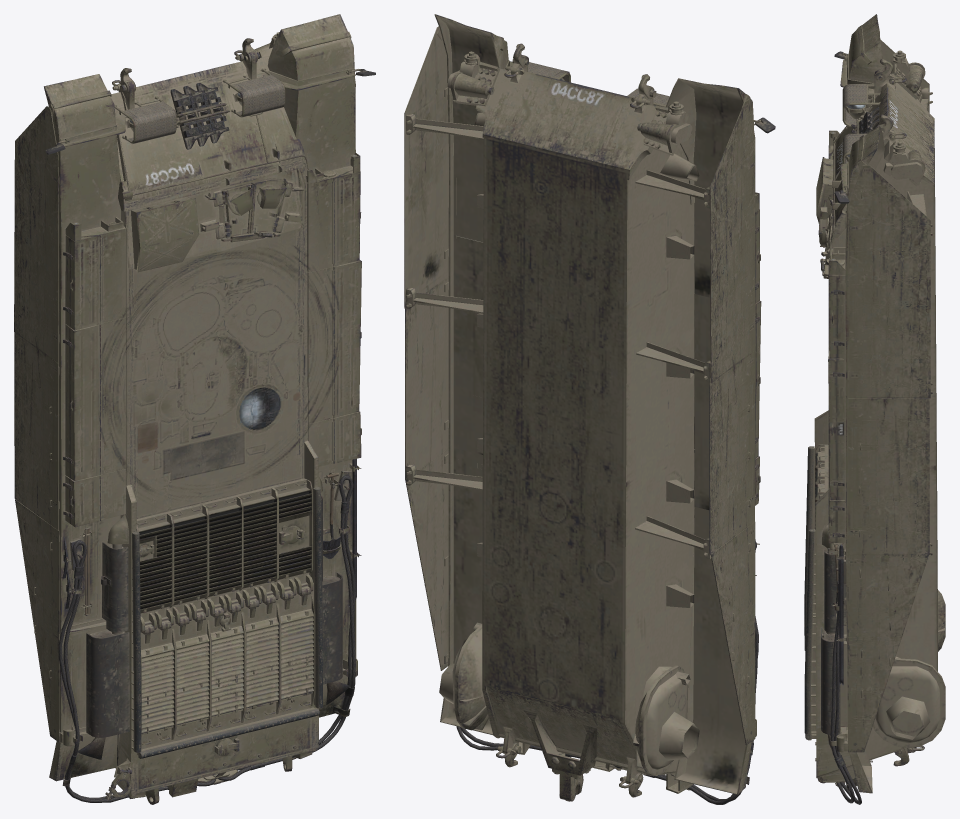
File: Hull.glb
3 views of the same model, side by side, from view 1: azimuth 30°, elevation 25°; view 2: azimuth 150°, elevation 25°; view 3: azimuth 270°, elevation 25° (orthographic). The views are drawn at different scales.
Parts seen in each view (by area): view 1: set_0_group_0; view 2: set_0_group_0; view 3: set_0_group_0.
Boxes of the visible parts, left/top/right/bottom form: set_0_group_0: left=14, top=14, right=375, bottom=804; set_0_group_0: left=404, top=14, right=775, bottom=804; set_0_group_0: left=804, top=14, right=945, bottom=804.
Bounding box in the file's own units: 3.71 × 7.74 × 1.48.
Materials: 1 (1 with a texture image).
